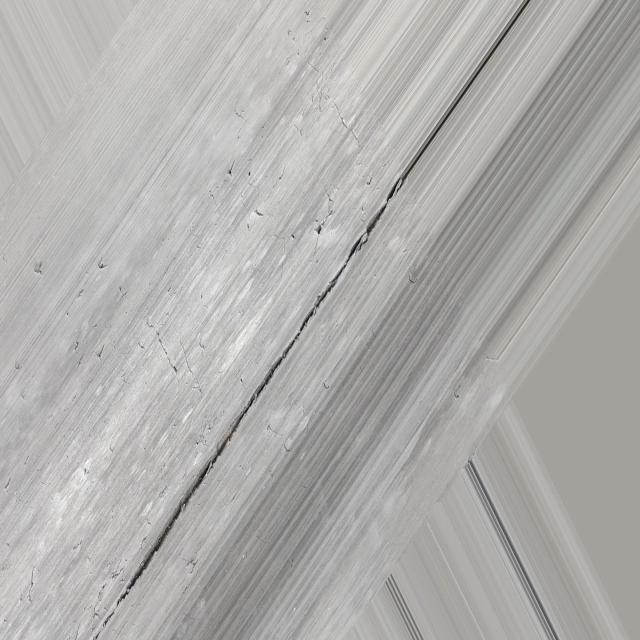Puncture: (248, 205, 266, 219), (287, 228, 300, 242), (228, 160, 235, 177), (316, 226, 321, 233)
Tear: (102, 171, 408, 626)
